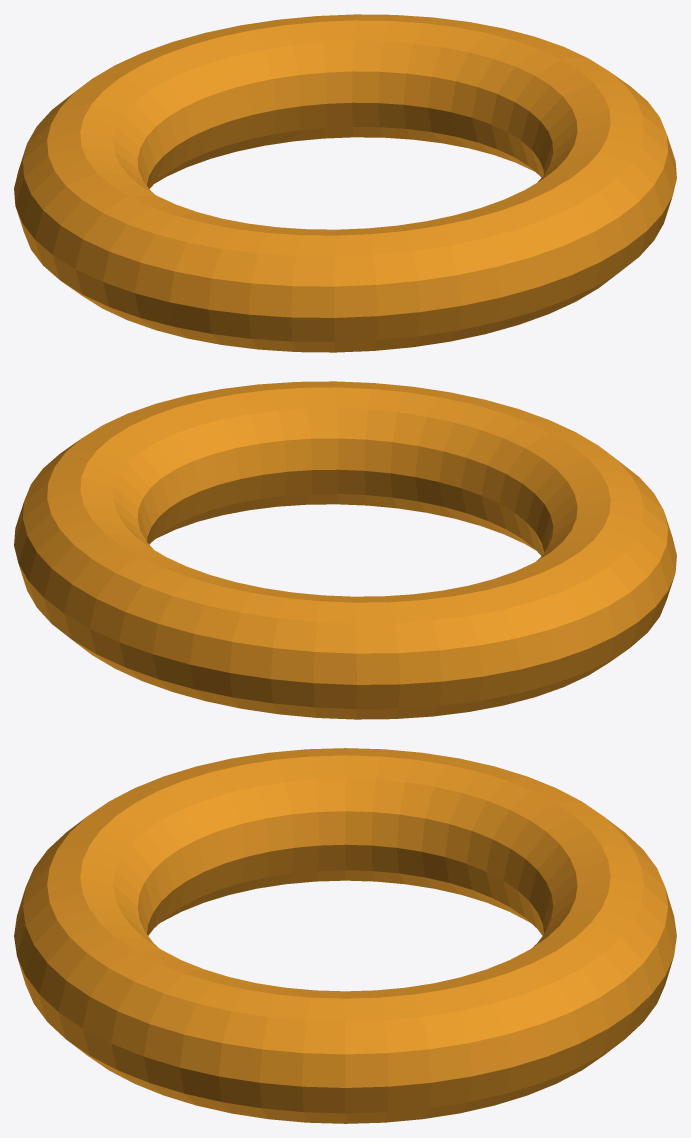
3 renders of one model, top to bottom at view 1: azimuth 30°, elevation 25°; view 2: azimuth 150°, elevation 25°; view 3: azimuth 270°, elevation 25°, orthographic. The views are drawn at different scales.
Visible parts, largest first — view 1: トーラス; view 2: トーラス; view 3: トーラス.
Boxes of the visible parts, x1=… form: トーラス: x1=14, y1=14, x2=676, y2=352; トーラス: x1=14, y1=381, x2=676, y2=719; トーラス: x1=14, y1=748, x2=676, y2=1123.
Bounding box in the file's own units: 0.1206 × 0.0218 × 0.1112.
